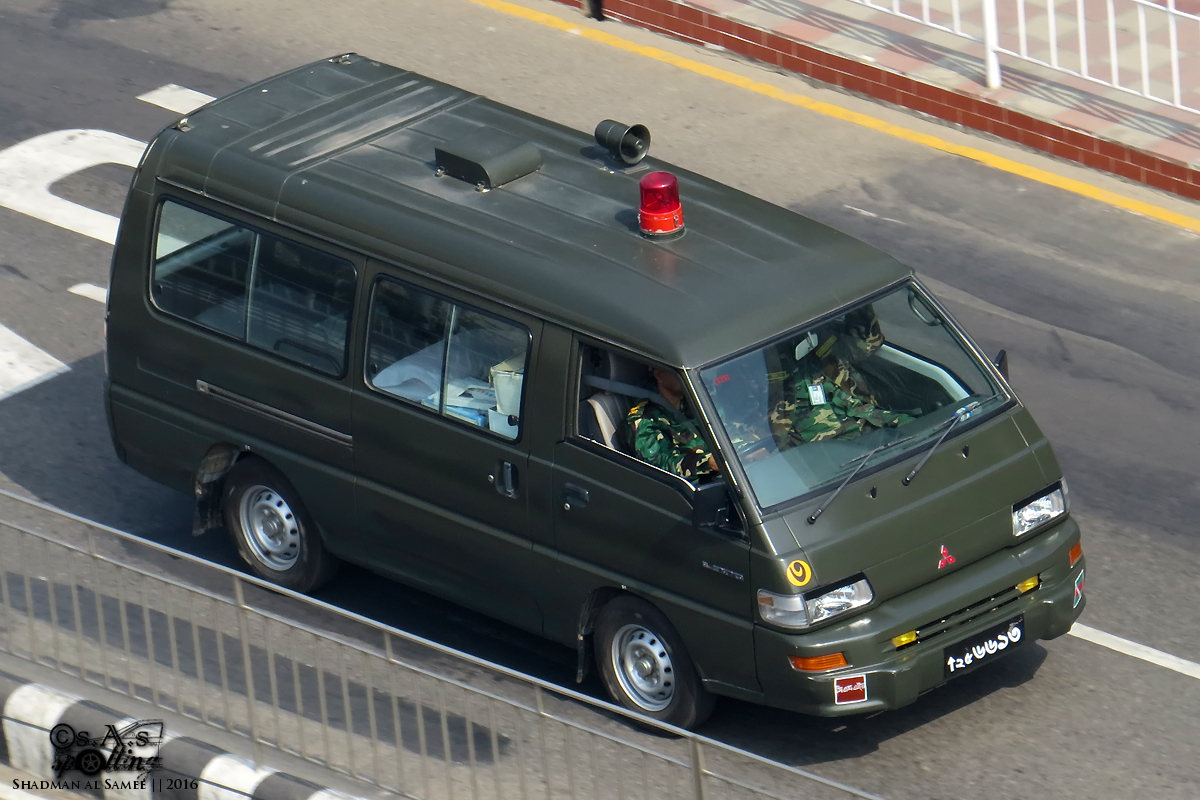Ambulance: (98, 42, 1128, 759)
